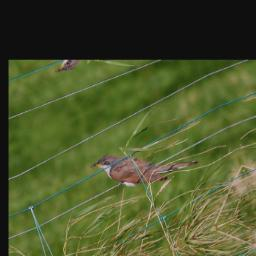Cuckoo: (87, 117, 203, 213)
